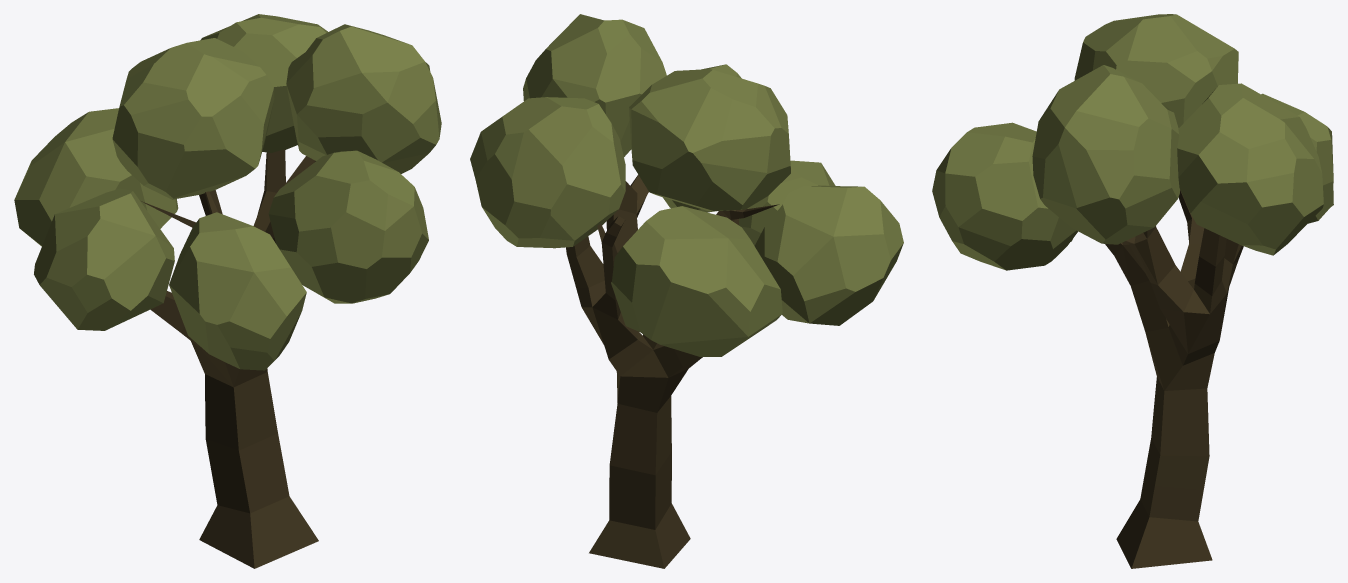
File: TreeLowPoly1.fbx
The picture shows the model from 3 angles, left to right: view 1: azimuth 30°, elevation 25°; view 2: azimuth 150°, elevation 25°; view 3: azimuth 270°, elevation 25°; orthographic projection. The views are drawn at different scales.
Visible parts, largest first — view 1: LeafTree.001; view 2: LeafTree.001; view 3: LeafTree.001.
Part boxes in pixels (x1,y1,x2,y2): LeafTree.001: (14, 14, 441, 568); LeafTree.001: (470, 14, 903, 568); LeafTree.001: (932, 14, 1333, 568).
Bounding box in the file's own units: 75.08 × 97.49 × 69.36.
